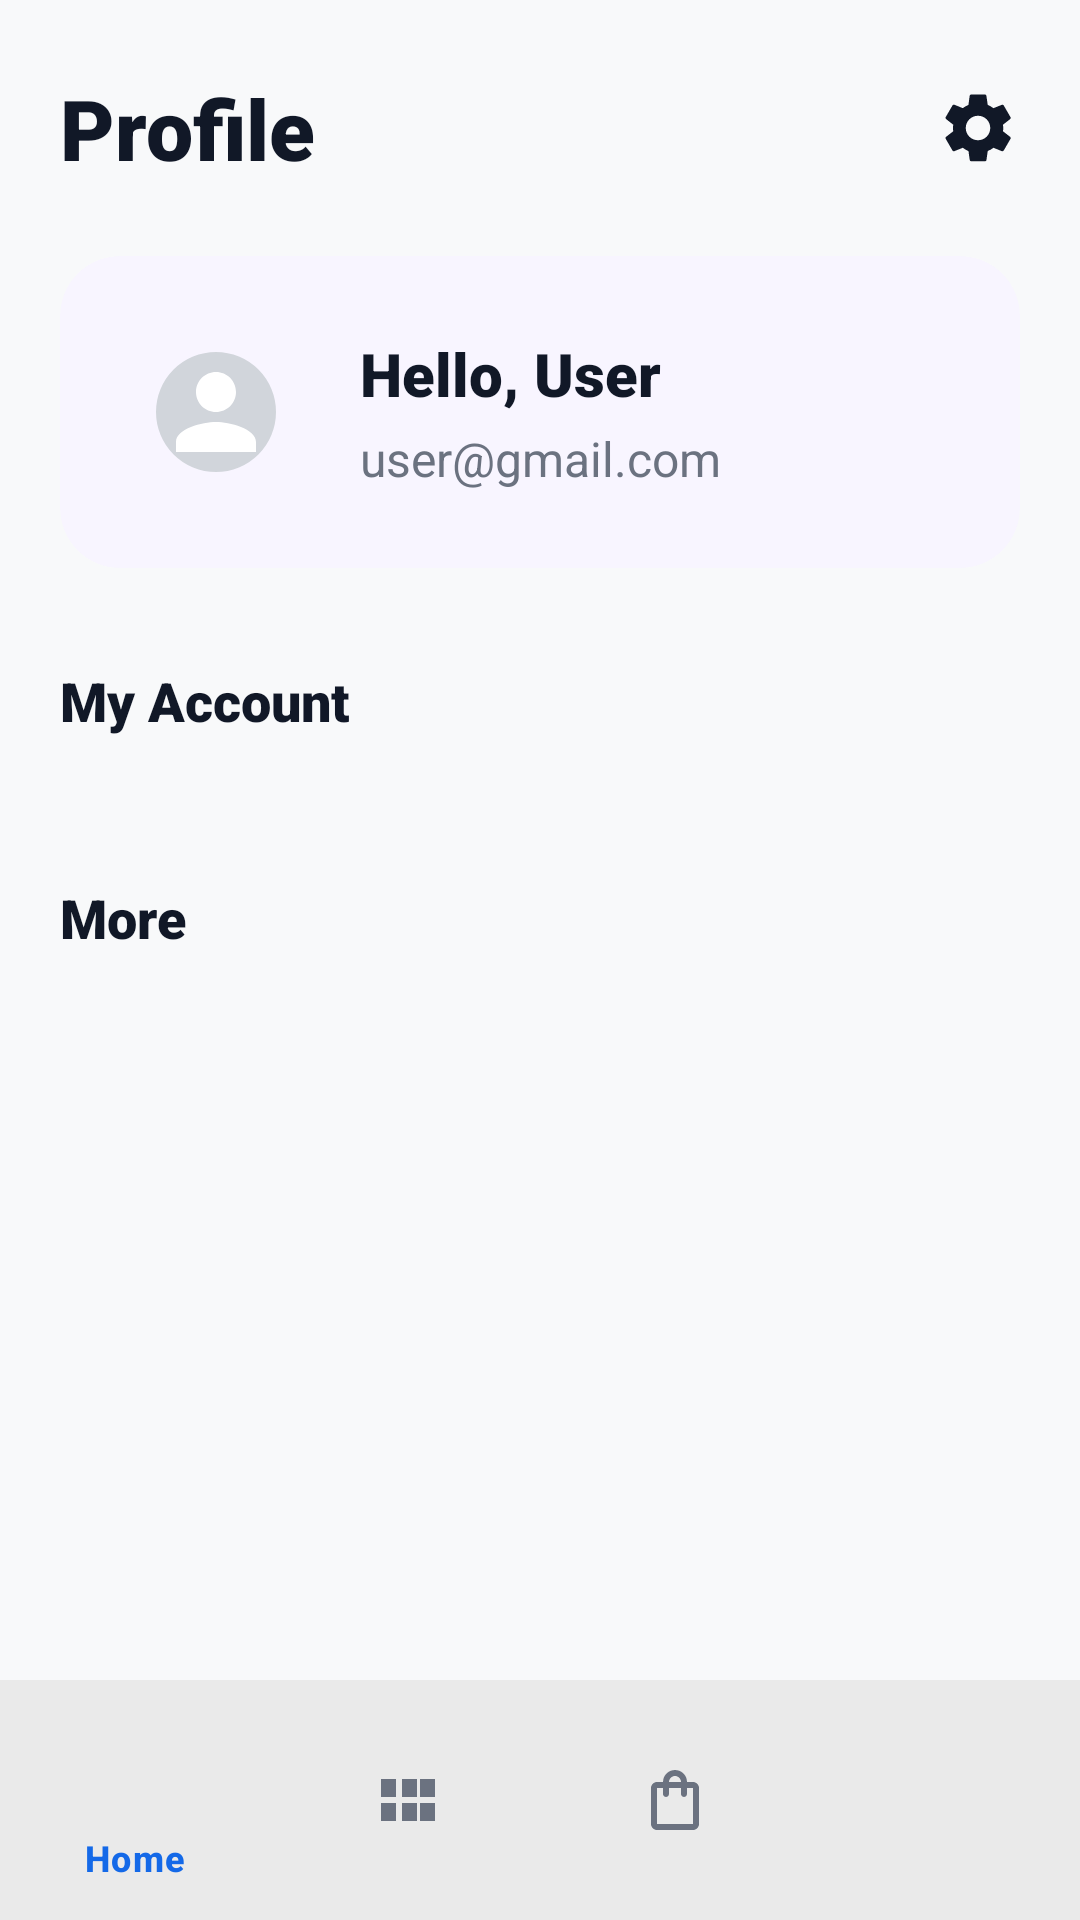

Screen size 1080 x 1920. Icon name, then its box in pixels as (x1, y1, x2, y2):
person: (156, 352, 276, 472)
settings: (945, 94, 1011, 162)
